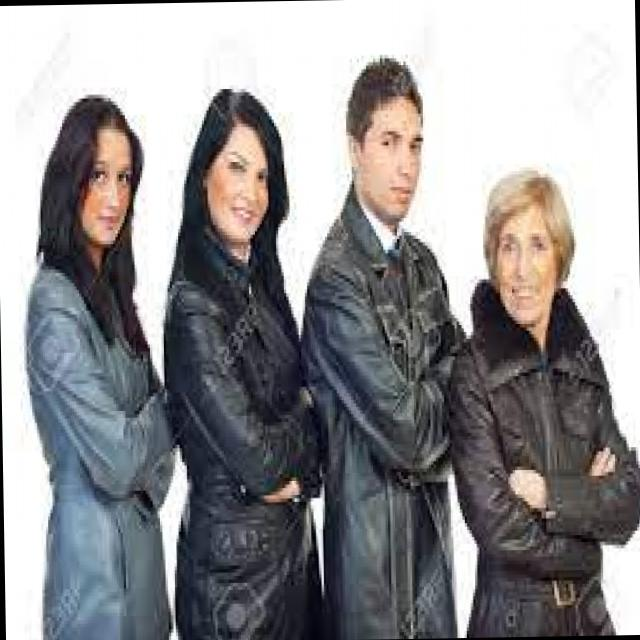Jacket: (295, 196, 469, 640), (144, 232, 328, 640), (440, 286, 640, 637), (14, 248, 176, 640)
